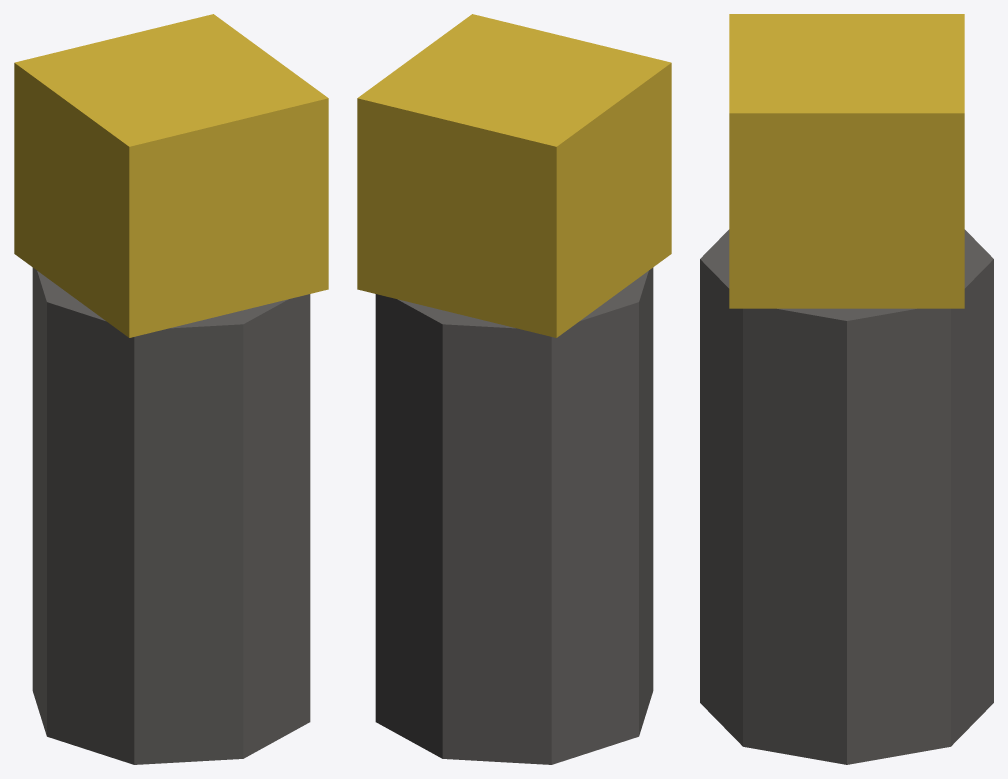
The model's file is reliquary_fixture.obj.
3 renders of one model, left to right at view 1: azimuth 30°, elevation 25°; view 2: azimuth 150°, elevation 25°; view 3: azimuth 270°, elevation 25°, orthographic. The views are drawn at different scales.
Parts seen in each view (by area): view 1: reliquary_fixture; view 2: reliquary_fixture; view 3: reliquary_fixture.
Part boxes in pixels (<box>): reliquary_fixture: <box>14,14,328,764</box>; reliquary_fixture: <box>357,14,671,764</box>; reliquary_fixture: <box>700,14,993,764</box>.
Bounding box in the file's own units: 0.3 × 0.72 × 0.3.
